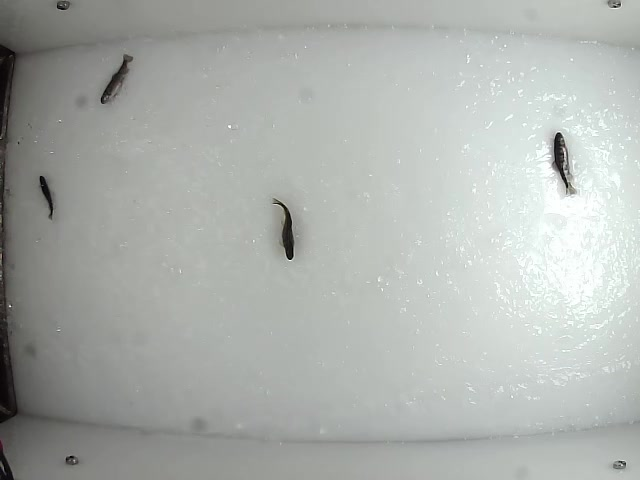fish: (549, 132, 579, 198), (97, 53, 134, 106), (269, 197, 296, 263), (33, 173, 57, 221)
